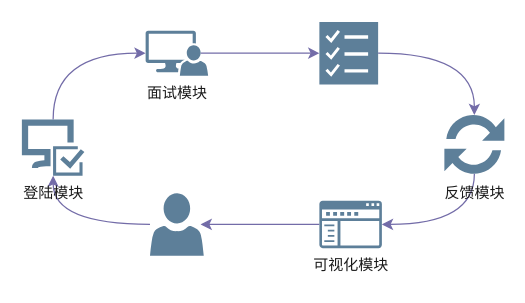
The diagram is 525 pixels wide and 303 high, and some of its shapes have lost their labels. The shapes that lost their labels are listed below. From the top down, each one's centre as x and y in pixels, then its label:
[348,52]: 评分模块
[176,223]: 用户
